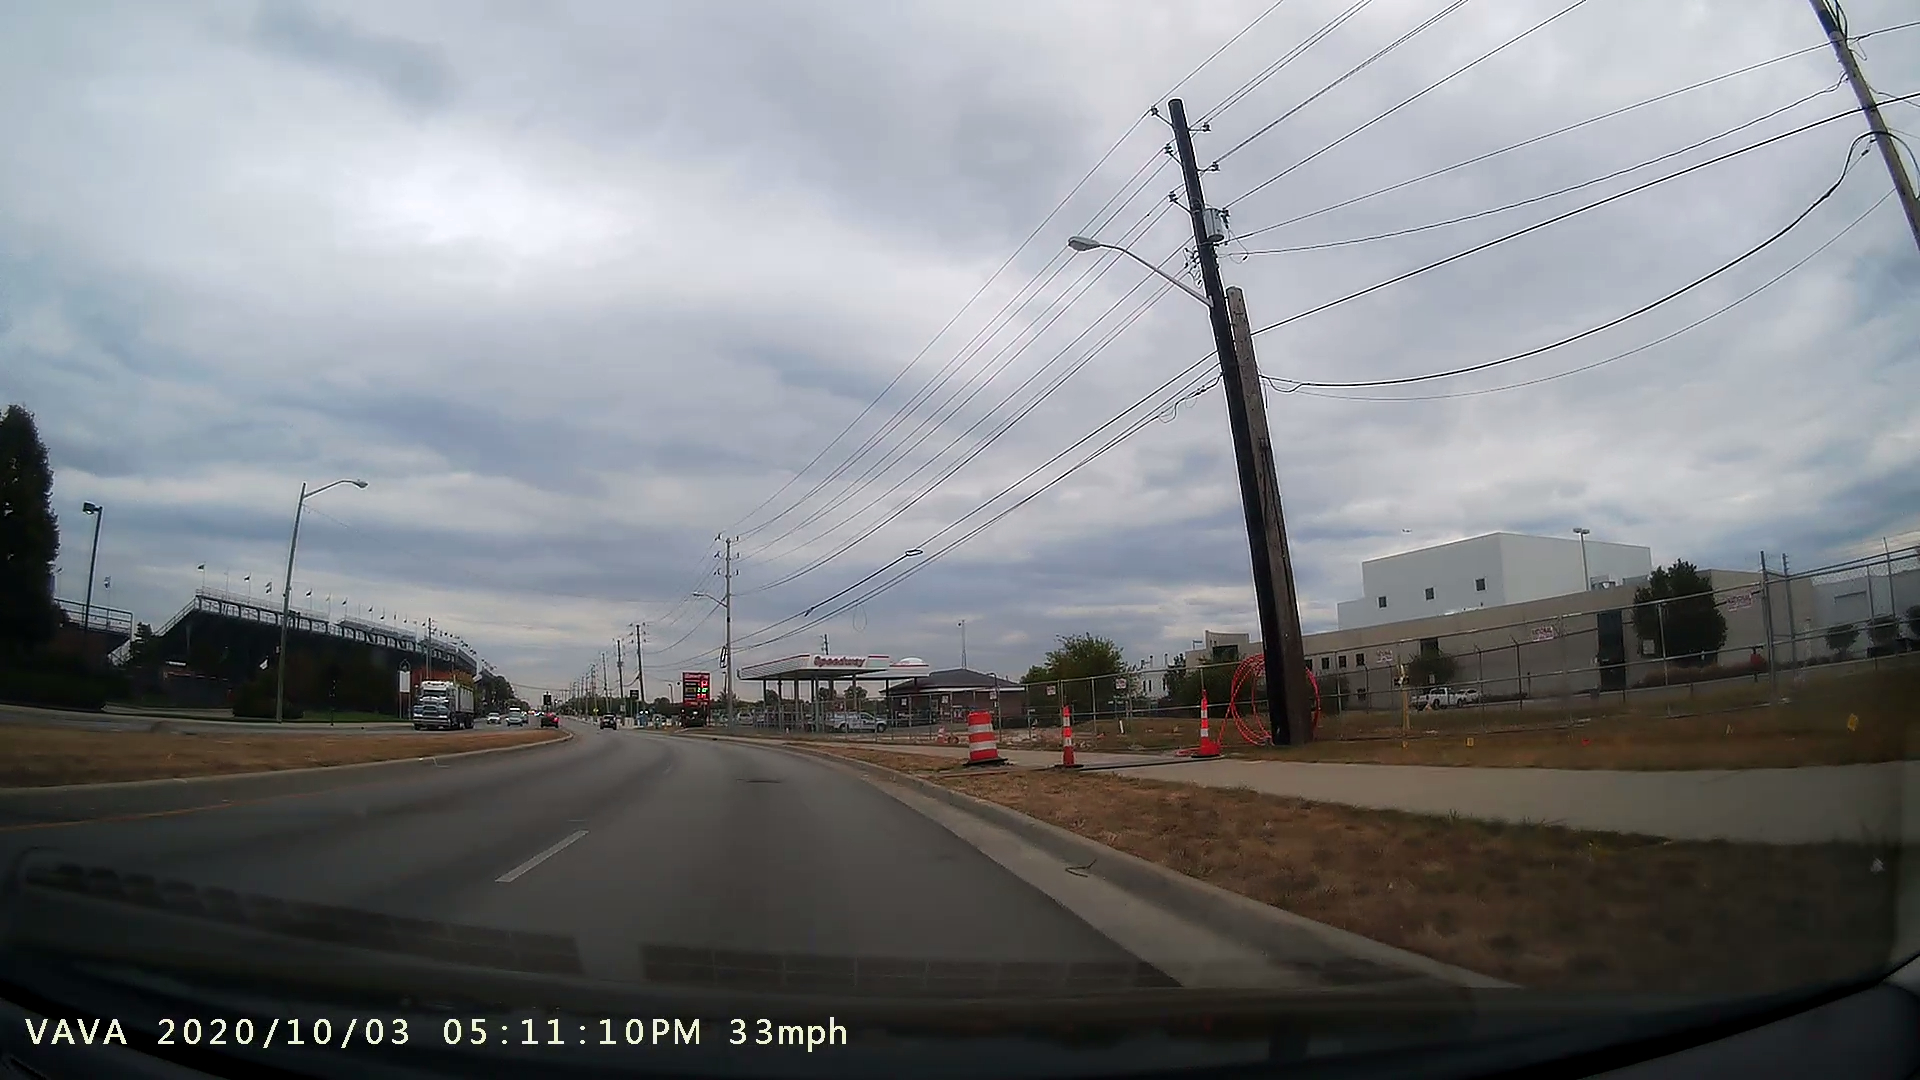const_barrel: (951, 694, 1021, 777)
const_looper_cone: (1044, 694, 1092, 782)
